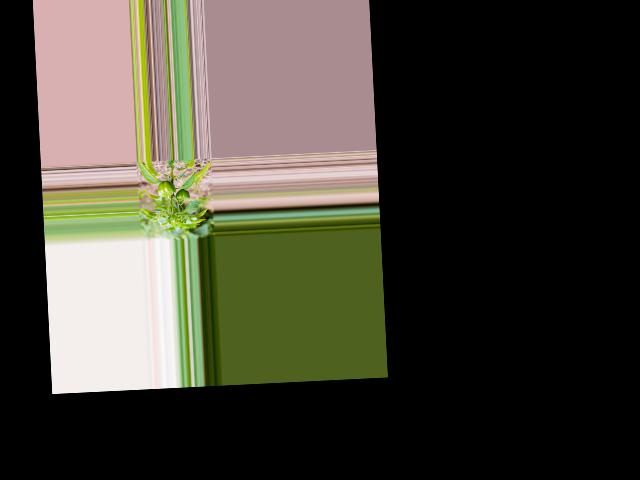bell_pepper: (175, 187, 190, 202)
